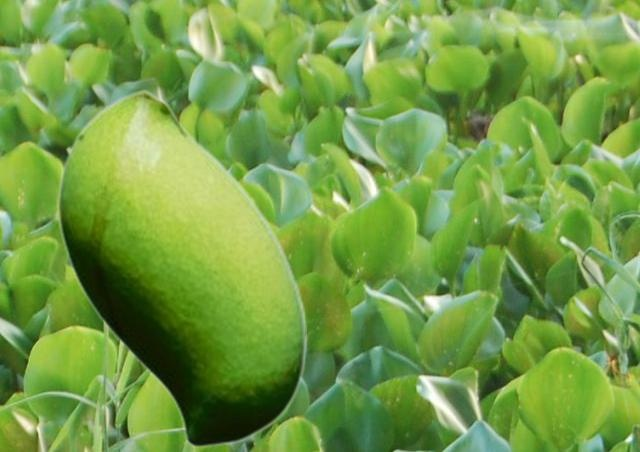green_mango: (56, 88, 305, 447)
